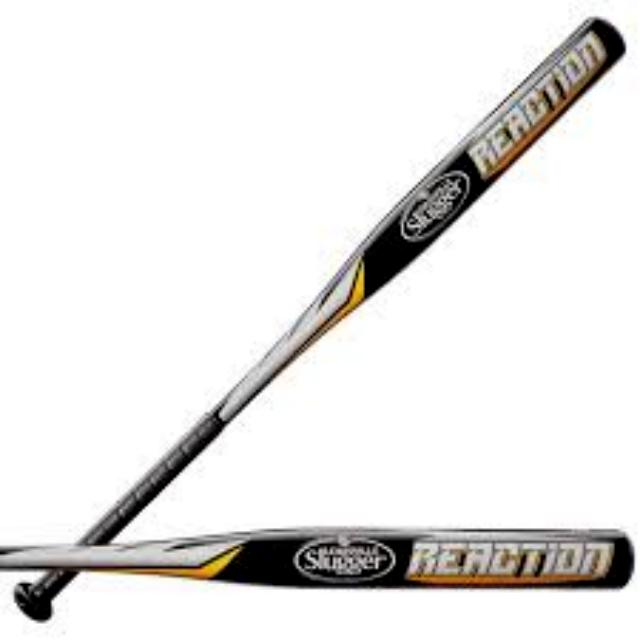baseball bat: (1, 15, 626, 618)
